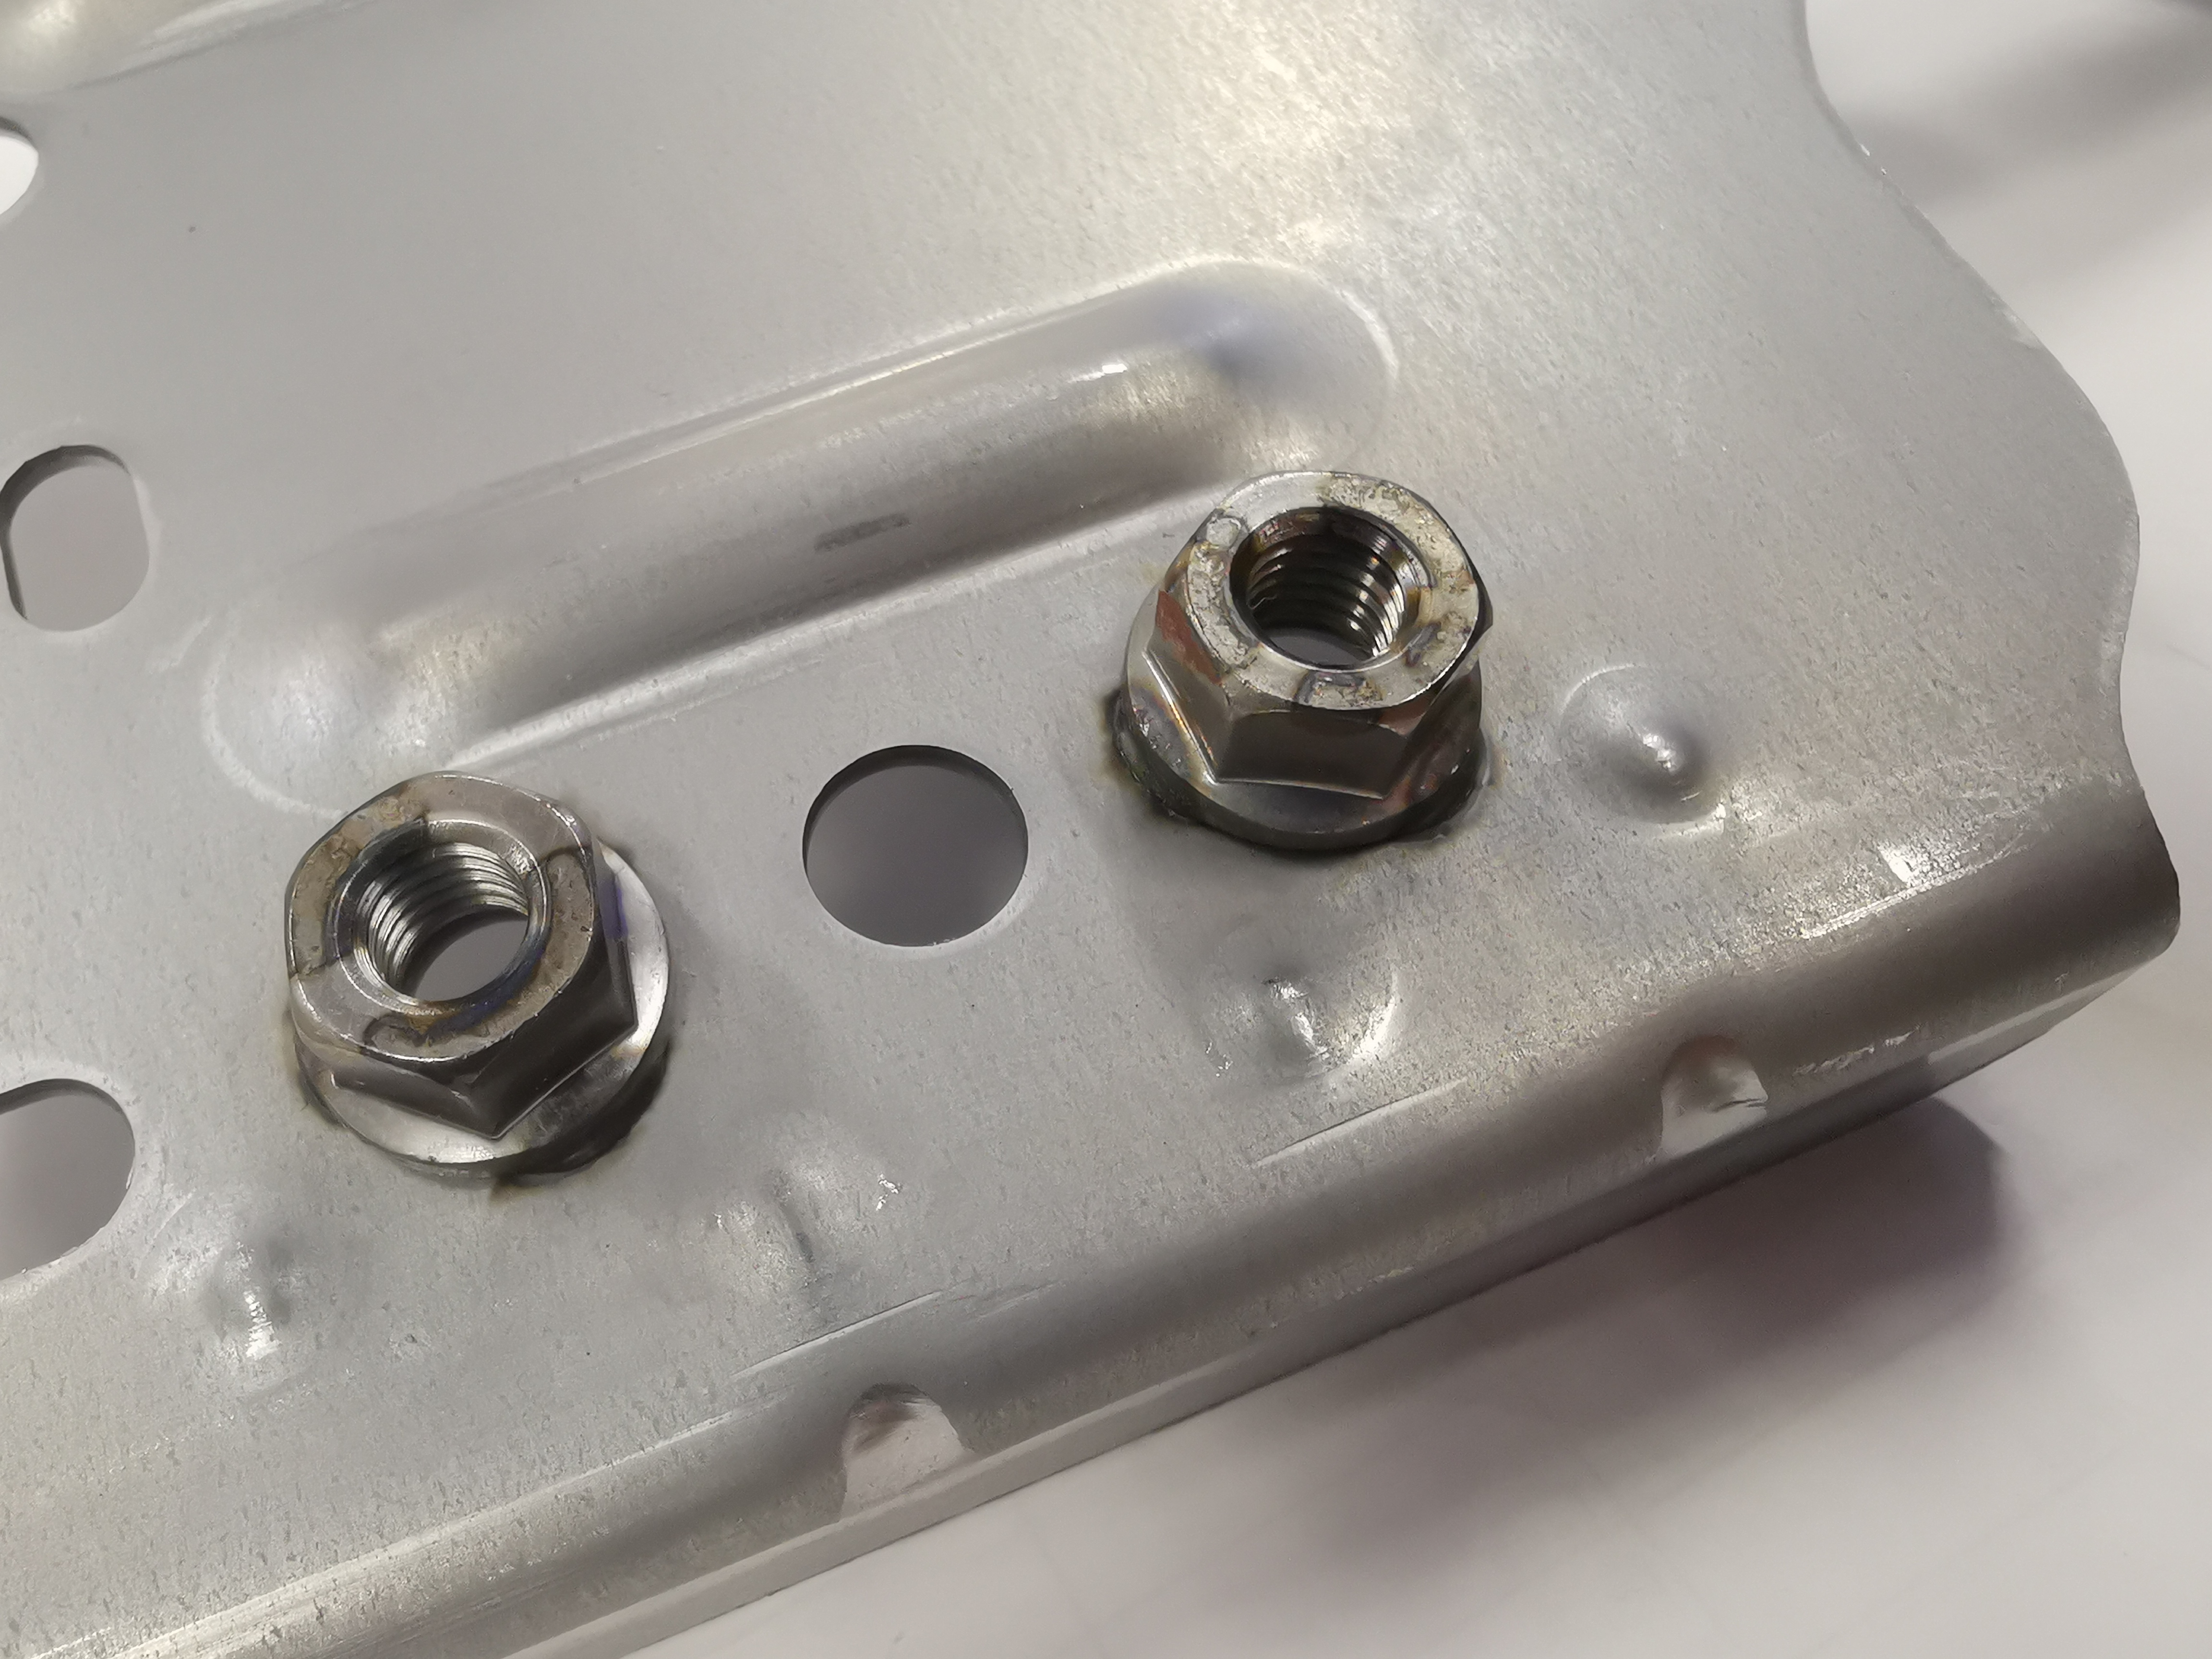dog: (270, 760, 686, 1187), (1101, 462, 1501, 861)
